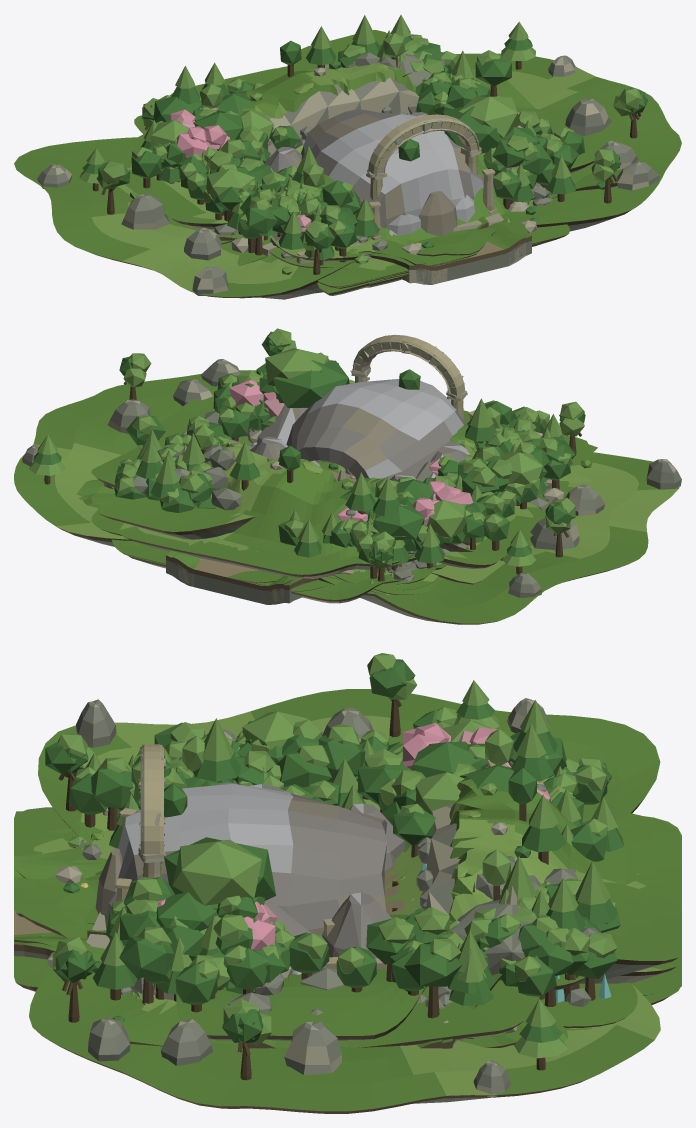
File: verdant_valley_structure.fbx
3 renders of one model, top to bottom at view 1: azimuth 30°, elevation 25°; view 2: azimuth 150°, elevation 25°; view 3: azimuth 270°, elevation 25°, orthographic. The views are drawn at different scales.
Parts seen in each view (by area): view 1: chunk_boss_sanctuary, chunk_path_cliff_passage, chunk_cap_cave_mouth, chunk_ancient_oak, chunk_shaded_grove, chunk_path_narrow_pass, chunk_cliff_overlook_gate, chunk_windward_ridge_gate, chunk_fern_hollow, chunk_high_ledge_gate, chunk_forgotten_orchard_gate, chunk_side_wardens_clearing (+15 smaller); view 2: chunk_boss_sanctuary, chunk_path_cliff_passage, chunk_cap_cave_mouth, chunk_windward_ridge_gate, chunk_ancient_oak, chunk_path_narrow_pass, chunk_cliff_overlook_gate, chunk_fern_hollow, chunk_high_ledge_gate, chunk_shaded_grove, chunk_blossom_terrace, chunk_wetland_pools (+12 smaller); view 3: chunk_boss_sanctuary, chunk_path_cliff_passage, chunk_cap_cave_mouth, chunk_windward_ridge_gate, chunk_cliff_overlook_gate, chunk_path_narrow_pass, chunk_shaded_grove, chunk_fern_hollow, chunk_ancient_oak, chunk_wetland_pools, chunk_high_ledge_gate, chunk_path_split_meadow (+14 smaller).
Boxes of the visible parts, x1=… form: chunk_boss_sanctuary: x1=14, y1=21, x2=681, y2=299; chunk_path_cliff_passage: x1=170, y1=26, x2=528, y2=264; chunk_cap_cave_mouth: x1=130, y1=109, x2=488, y2=264; chunk_ancient_oak: x1=227, y1=59, x2=525, y2=283; chunk_shaded_grove: x1=153, y1=94, x2=551, y2=287; chunk_path_narrow_pass: x1=125, y1=61, x2=598, y2=261; chunk_cliff_overlook_gate: x1=179, y1=50, x2=534, y2=282; chunk_windward_ridge_gate: x1=130, y1=15, x2=412, y2=295; chunk_fern_hollow: x1=187, y1=40, x2=476, y2=214; chunk_high_ledge_gate: x1=131, y1=51, x2=441, y2=287; chunk_forgotten_orchard_gate: x1=133, y1=115, x2=620, y2=284; chunk_side_wardens_clearing: x1=206, y1=72, x2=588, y2=246; chunk_boss_sanctuary: x1=14, y1=328, x2=681, y2=624; chunk_path_cliff_passage: x1=188, y1=352, x2=535, y2=578; chunk_cap_cave_mouth: x1=185, y1=379, x2=506, y2=585; chunk_windward_ridge_gate: x1=97, y1=414, x2=597, y2=557; chunk_ancient_oak: x1=164, y1=348, x2=572, y2=603; chunk_path_narrow_pass: x1=137, y1=371, x2=545, y2=568; chunk_cliff_overlook_gate: x1=91, y1=416, x2=508, y2=604; chunk_fern_hollow: x1=133, y1=420, x2=516, y2=602; chunk_high_ledge_gate: x1=119, y1=434, x2=589, y2=563; chunk_shaded_grove: x1=123, y1=370, x2=549, y2=572; chunk_blossom_terrace: x1=229, y1=380, x2=542, y2=591; chunk_wetland_pools: x1=111, y1=394, x2=540, y2=571; chunk_boss_sanctuary: x1=14, y1=653, x2=660, y2=1113; chunk_path_cliff_passage: x1=85, y1=718, x2=681, y2=1047; chunk_cap_cave_mouth: x1=14, y1=762, x2=465, y2=1047; chunk_windward_ridge_gate: x1=14, y1=700, x2=681, y2=1048; chunk_cliff_overlook_gate: x1=14, y1=730, x2=584, y2=1047; chunk_path_narrow_pass: x1=80, y1=739, x2=581, y2=1040; chunk_shaded_grove: x1=14, y1=732, x2=681, y2=999; chunk_fern_hollow: x1=117, y1=719, x2=581, y2=1005; chunk_ancient_oak: x1=14, y1=730, x2=491, y2=995; chunk_wetland_pools: x1=62, y1=722, x2=681, y2=1030; chunk_high_ledge_gate: x1=14, y1=707, x2=681, y2=983; chunk_path_split_meadow: x1=34, y1=766, x2=511, y2=1043.
Bounding box in the file's own units: 384 × 116 × 256.
